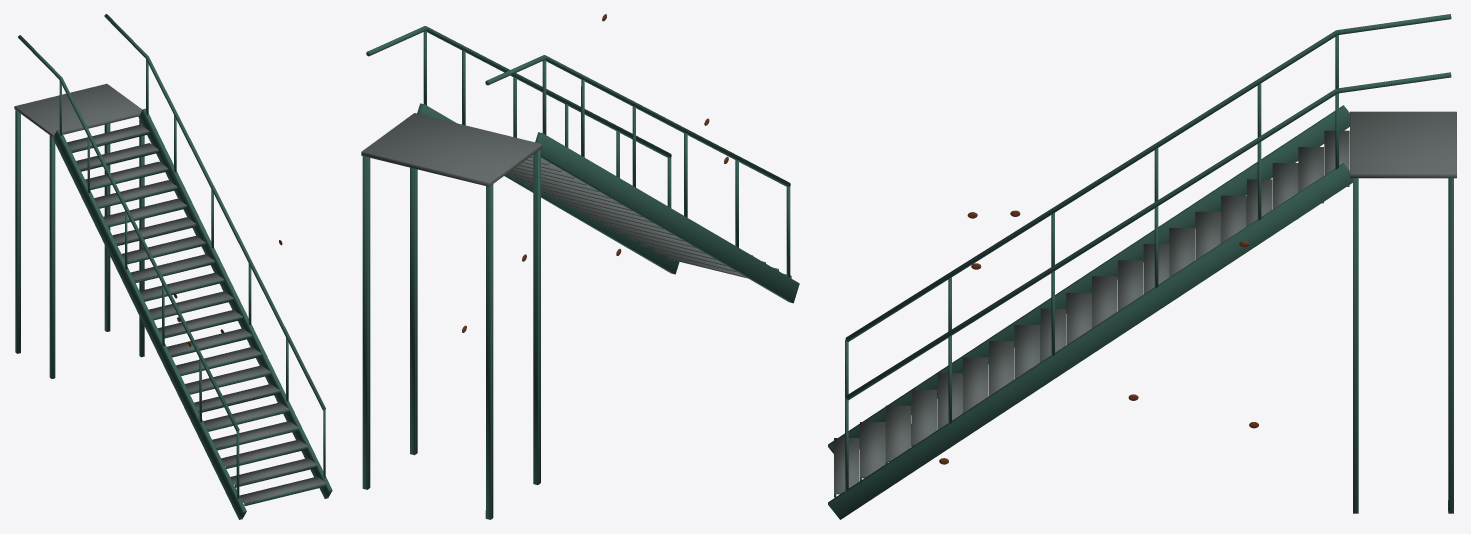
The model's file is cau_thang_315_434_110.glb.
3 views of the same model, side by side, from view 1: azimuth 30°, elevation 25°; view 2: azimuth 150°, elevation 25°; view 3: azimuth 270°, elevation 25° (orthographic). The views are drawn at different scales.
Visible parts, largest first — view 1: cau_thang_315_434_110; view 2: cau_thang_315_434_110; view 3: cau_thang_315_434_110.
Boxes of the visible parts, box(x1,y1,x2,y2) form: cau_thang_315_434_110: box(14, 14, 332, 519); cau_thang_315_434_110: box(361, 14, 799, 519); cau_thang_315_434_110: box(828, 14, 1456, 519).
Size of the model in its own units: 1.25 by 4.14 by 5.29.
